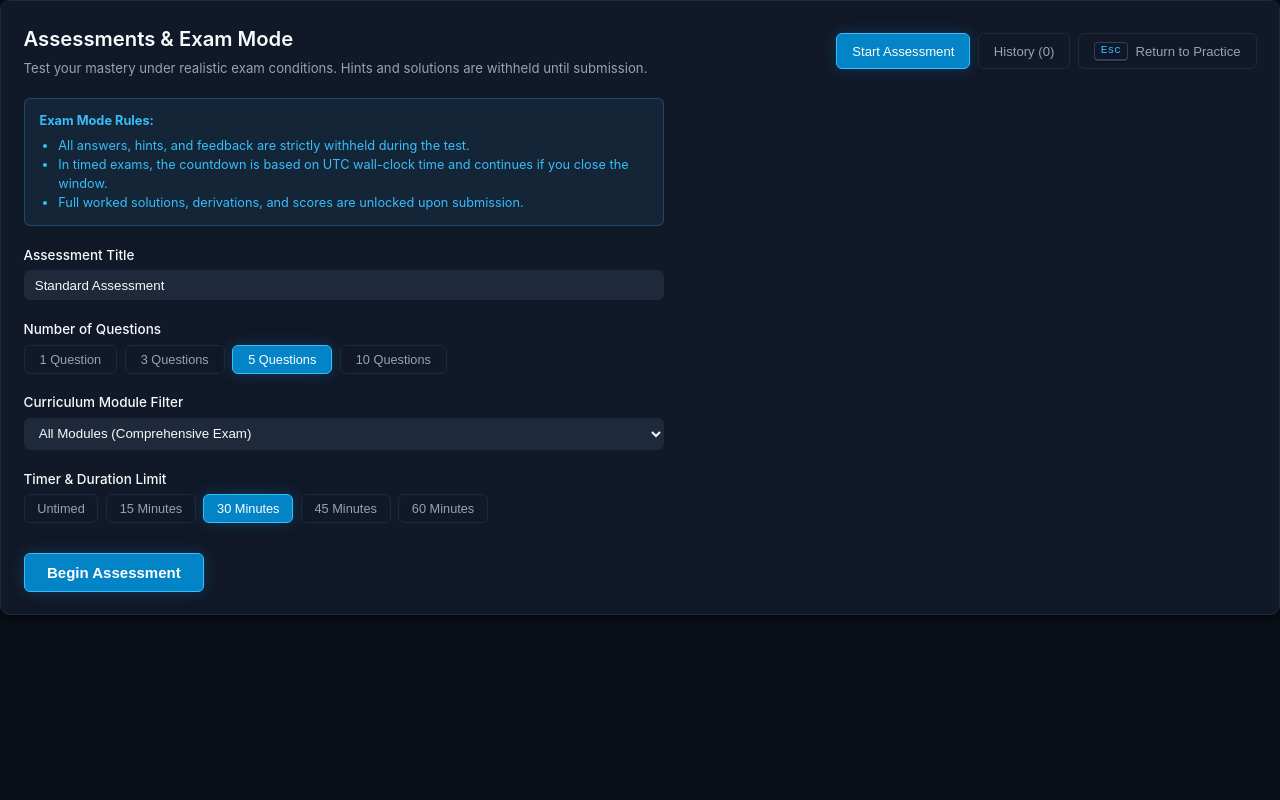
Test case: Exams Feature UI › renders creation setup and lists past assessments in history tab
Expected: the heading "Assessments & Exam Mode" is shown, [24,26,293,50]
Expected: the button "Begin Assessment" is shown, [24,553,204,592]
Switch to history tab
Click the button "History (0)": click(1024, 51) [978,33,1070,69]
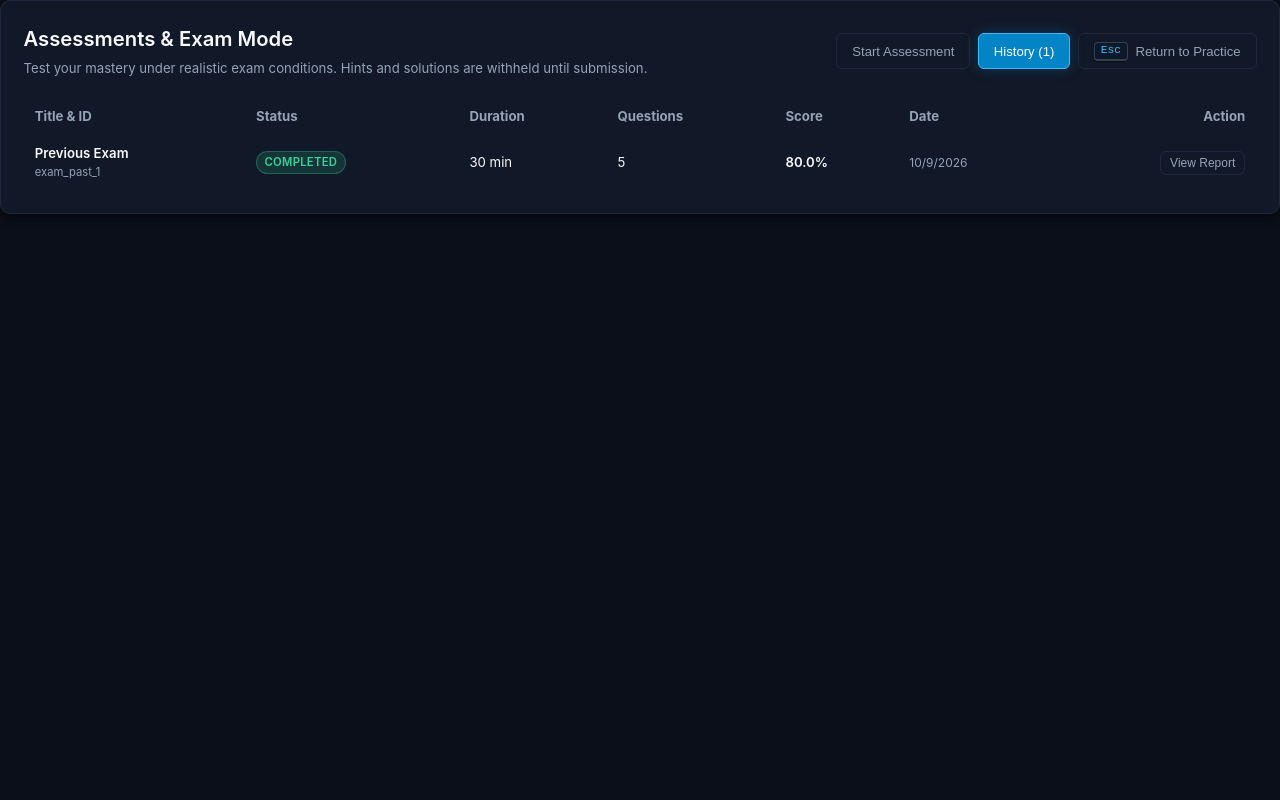
Now the text "Previous Exam" is shown, box [35,146,129,162]
Now the text "80.0%" is shown, box [774,136,898,190]
